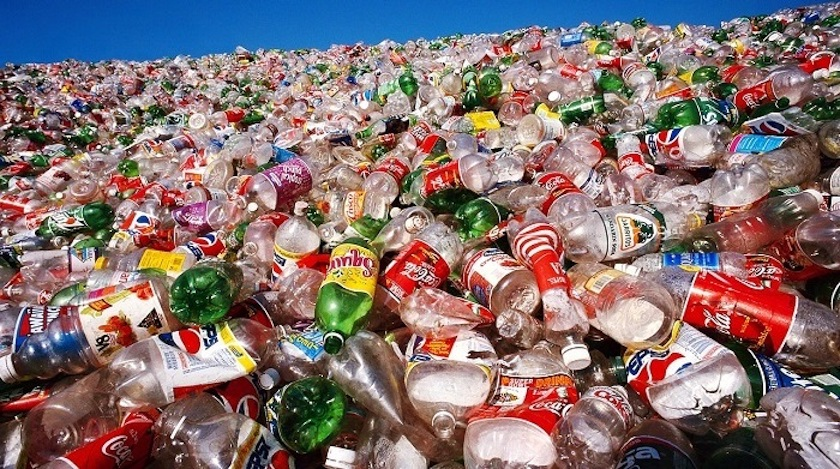Coca-Cola: (685, 281, 794, 342), (523, 376, 583, 422), (105, 415, 152, 465), (737, 250, 792, 291), (398, 252, 449, 293), (735, 78, 779, 119), (488, 209, 531, 247), (426, 164, 465, 203), (531, 173, 575, 207), (611, 147, 650, 176), (374, 159, 411, 177), (515, 24, 541, 47), (559, 60, 583, 84)
plastic: (2, 17, 835, 459)
